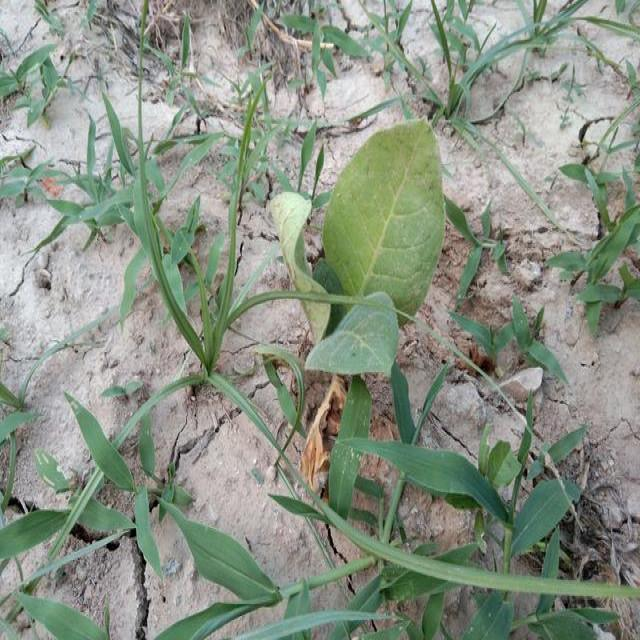crop: (266, 103, 448, 396)
